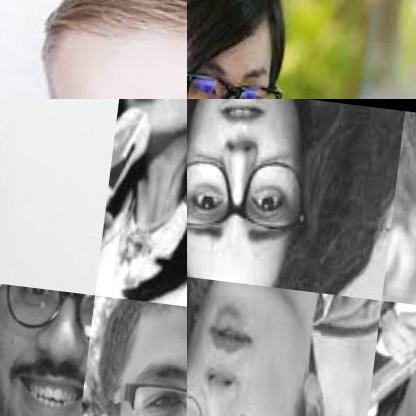glasses: (187, 145, 318, 255), (0, 283, 94, 343), (108, 353, 186, 415), (187, 69, 287, 98), (187, 385, 280, 415)
hands: (372, 300, 415, 379), (101, 169, 128, 242)
mouth: (120, 99, 178, 110)
